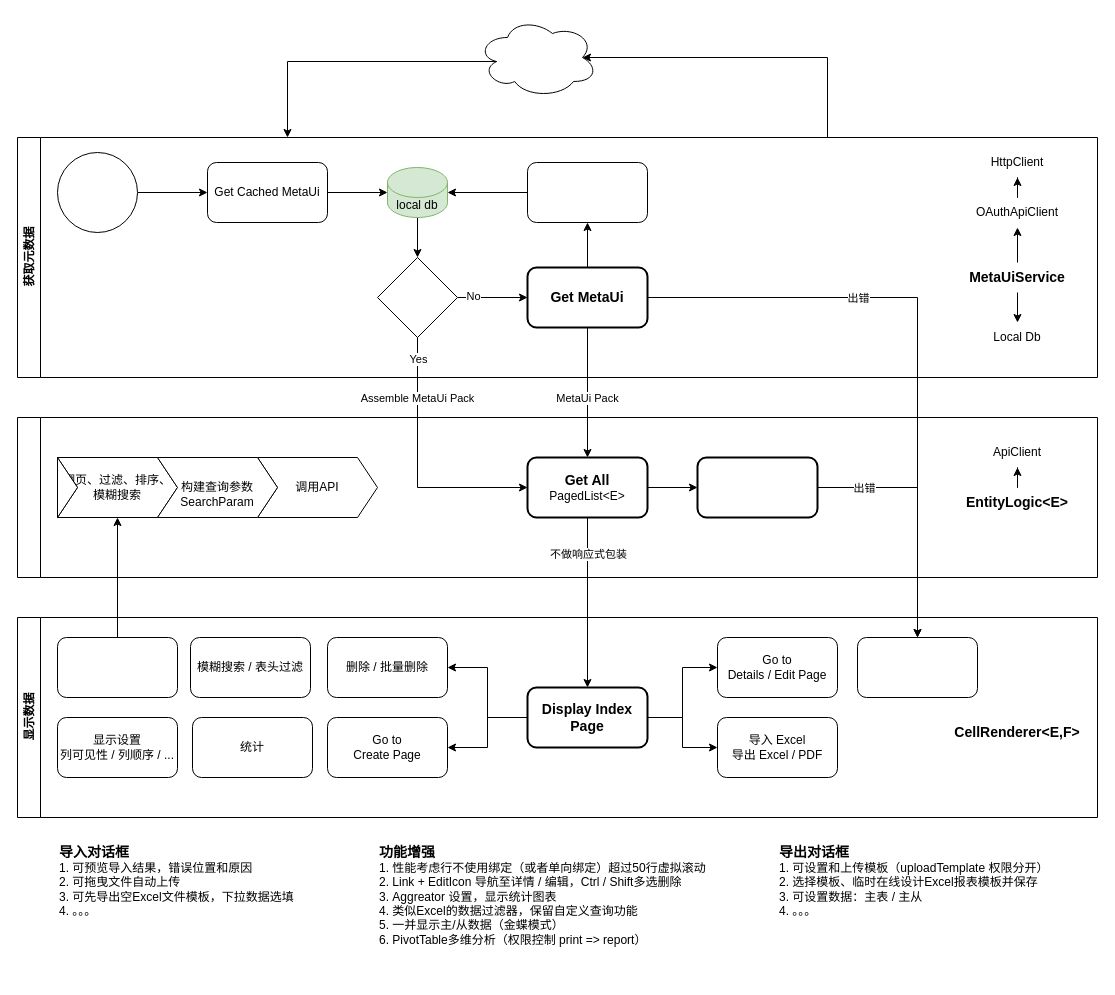
This 1115x995 diagram has some shape labels left out. The shapes that lost their labels are listed below. From the top down, each one's box as (x1, y1, x2, y2) in pixels, then its label:
(476, 16, 598, 98): 云端API
(56, 152, 138, 232): Module Index View
(526, 162, 648, 222): Cache MetaUi
(376, 256, 458, 338): Cached?
(16, 416, 1098, 578): 获取数据
(696, 456, 818, 518): Search All PagedList<E>
(56, 636, 178, 698): 翻页 / 表头排序
(856, 636, 978, 698): Refresh on Display ApiError Screen
